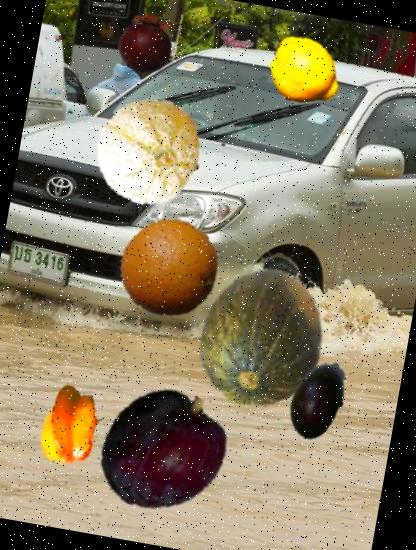Cantaloupe: (85, 88, 210, 213)
Carambula: (24, 379, 118, 473)
Eggplant: (270, 350, 368, 448)
Mangostan: (112, 7, 183, 78)
Melon: (182, 262, 345, 424)
Orange: (112, 210, 228, 326)
Plum: (90, 377, 238, 525)
Quince: (260, 28, 350, 117)
